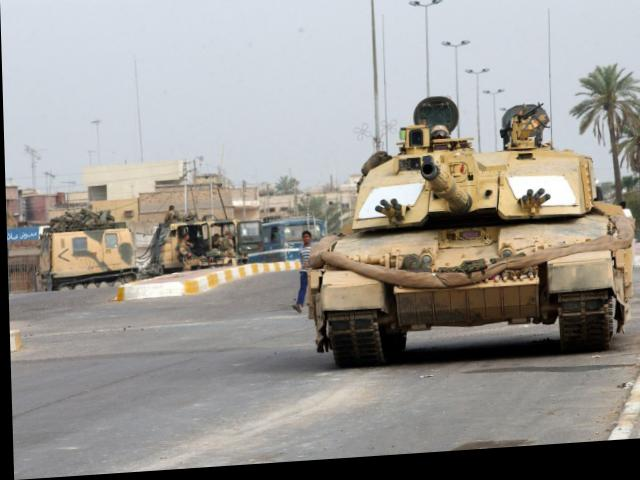tank: (309, 116, 638, 375)
